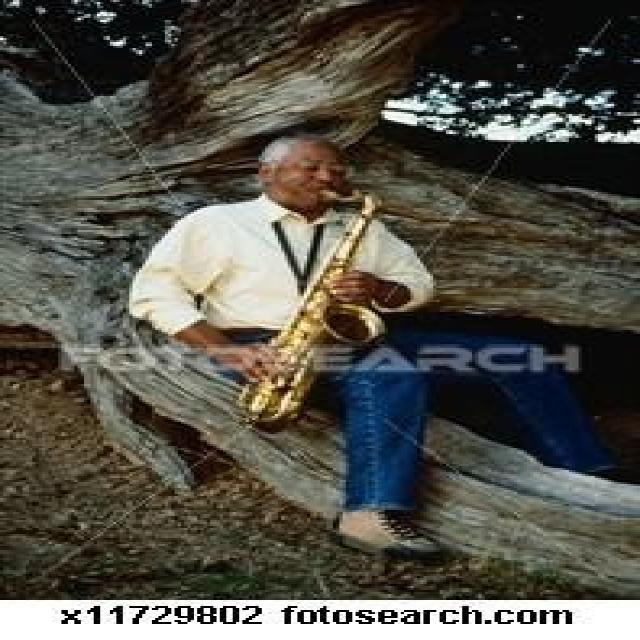saxophone: (235, 185, 397, 431)
